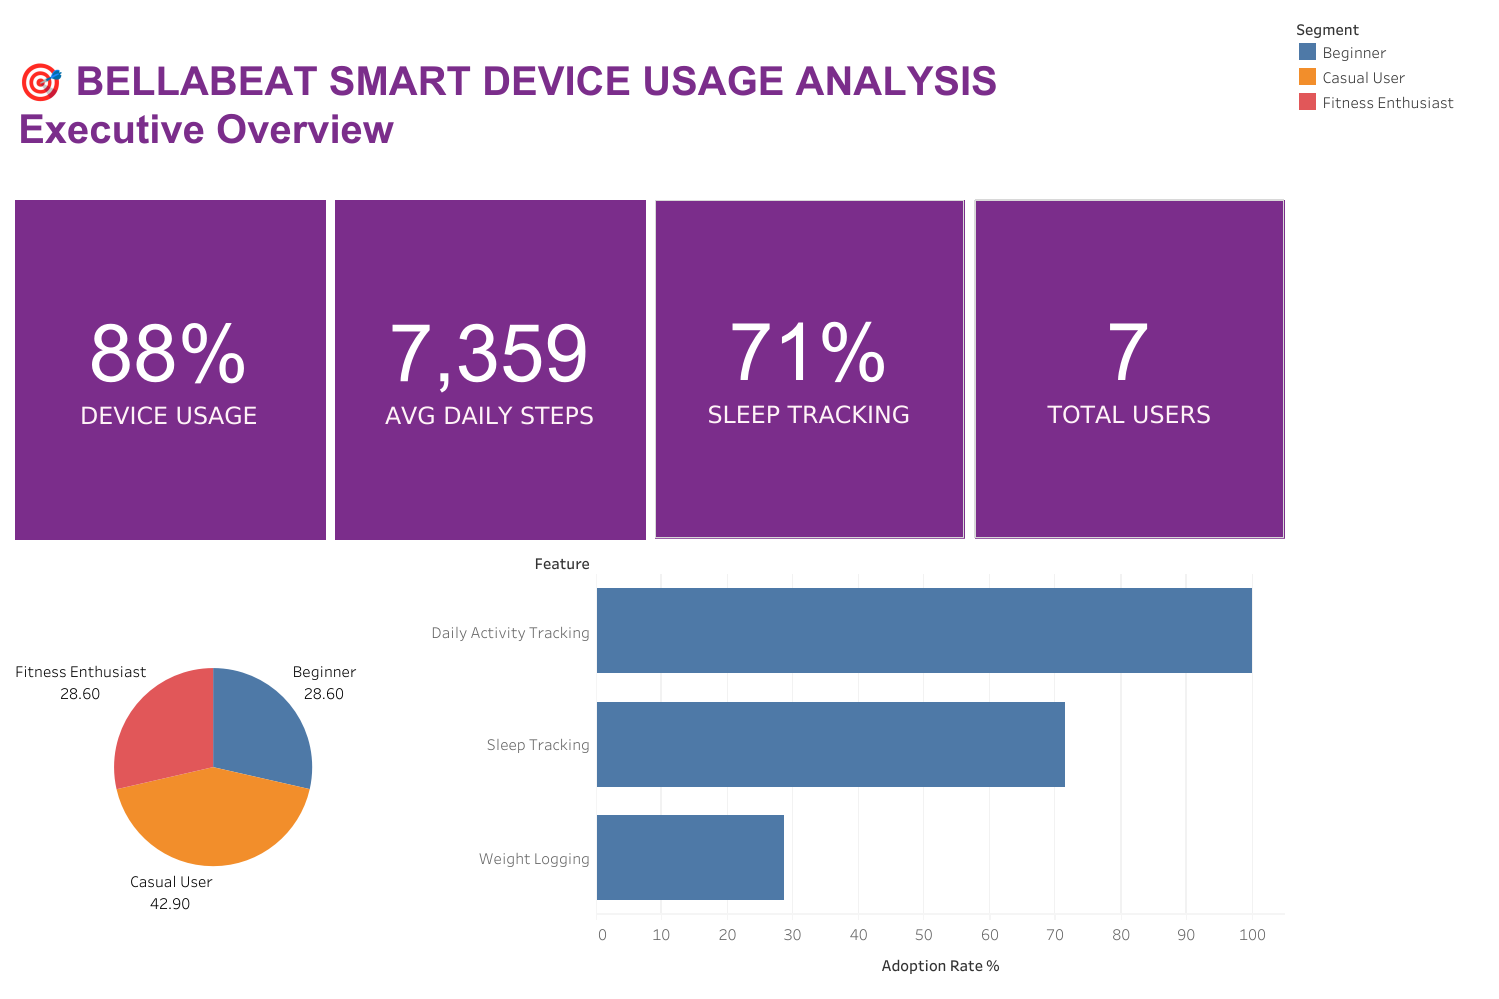

This screenshot's page, from the dashboard's own definition file:
{"tool":"tableau","page":{"name":"Dashboard 1 Executive Summary","canvas":[1200,800],"ordinal":0},"visuals":[{"type":"text","box":[8,8,1024,148]},{"type":"legend","title":" User Segmentation Pie Chart","param":"[federated.1fom2we0rit1f21bwnpsv1t50ab7].[none:segment:nk]","box":[1032,8,160,93]},{"type":"worksheet","title":"User_engagement","mark":"Automatic","box":[8,156,256,279]},{"type":"worksheet","title":"Avg_daily_steps","mark":"Automatic","box":[264,156,256,279]},{"type":"worksheet","title":"sleep tracking","mark":"Automatic","box":[520,156,256,279]},{"type":"worksheet","title":"total users","mark":"Automatic","box":[776,156,256,279]},{"type":"worksheet","title":" User Segmentation Pie Chart","mark":"Pie","box":[8,435,325,357]},{"type":"worksheet","title":"adoption","mark":"Automatic","rows":["feature"],"cols":["adoption_rate"],"box":[333,435,699,357]}]}

Visuals, with their boxes in screenshot pixels (x1, y1, x2, y2), scaled from the page's 1200x800 canvas onto the 1499x999 screenshot:
text: <box>10,10,1289,195</box>
" User Segmentation Pie Chart" legend: <box>1289,10,1489,126</box>
"User_engagement" worksheet: <box>10,195,330,543</box>
"Avg_daily_steps" worksheet: <box>330,195,650,543</box>
"sleep tracking" worksheet: <box>650,195,969,543</box>
"total users" worksheet: <box>969,195,1289,543</box>
" User Segmentation Pie Chart" worksheet (Pie marks): <box>10,543,416,989</box>
"adoption" worksheet: <box>416,543,1289,989</box>
